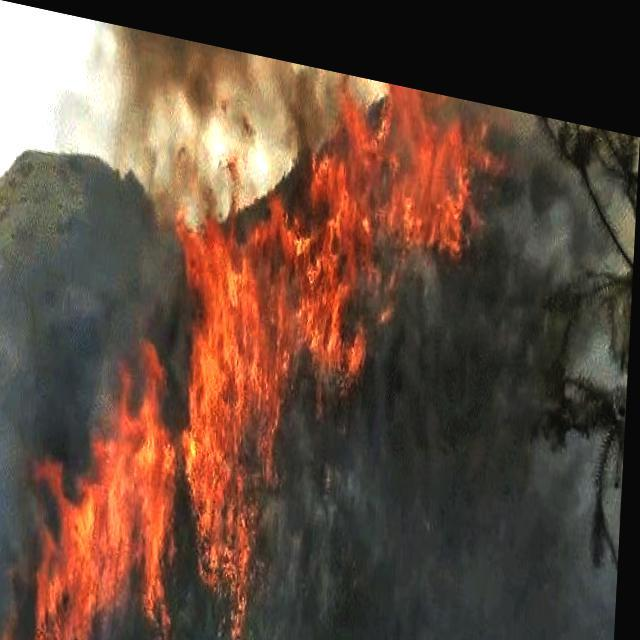Fire: (21, 12, 482, 639)
